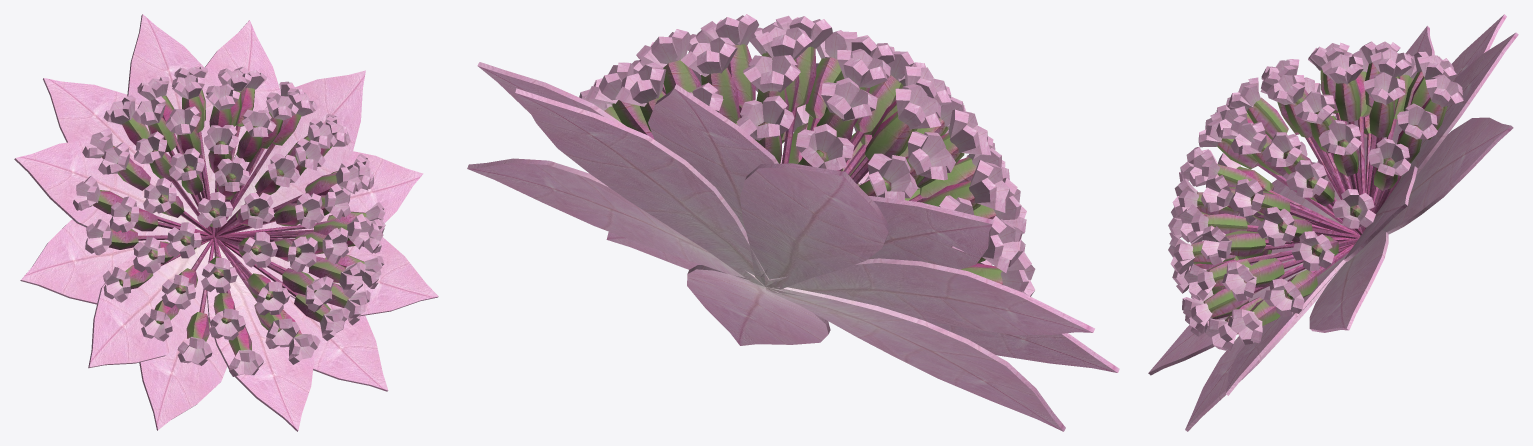
Rendered from astrantia.glb.
3 renders of one model, left to right at view 1: azimuth 30°, elevation 25°; view 2: azimuth 150°, elevation 25°; view 3: azimuth 270°, elevation 25°, orthographic. The views are drawn at different scales.
Visible parts, largest first — view 1: petal1_lambert27_0, tinypetal5_lambert25_0, fat1_lambert26_0; view 2: petal1_lambert27_0, tinypetal5_lambert25_0, fat1_lambert26_0; view 3: tinypetal5_lambert25_0, fat1_lambert26_0, petal1_lambert27_0.
Part boxes in pixels (box(x1,y1,x2,y2)): petal1_lambert27_0: box(14, 14, 438, 431); tinypetal5_lambert25_0: box(73, 66, 385, 376); fat1_lambert26_0: box(92, 87, 366, 355); petal1_lambert27_0: box(467, 62, 1119, 431); tinypetal5_lambert25_0: box(579, 14, 1035, 296); fat1_lambert26_0: box(604, 44, 1002, 284); tinypetal5_lambert25_0: box(1168, 41, 1463, 351); fat1_lambert26_0: box(1191, 63, 1447, 334); petal1_lambert27_0: box(1148, 14, 1518, 431).
Bounding box in the file's own units: 0.1429 × 0.1018 × 0.099.
Materials: 3 (3 with a texture image).
